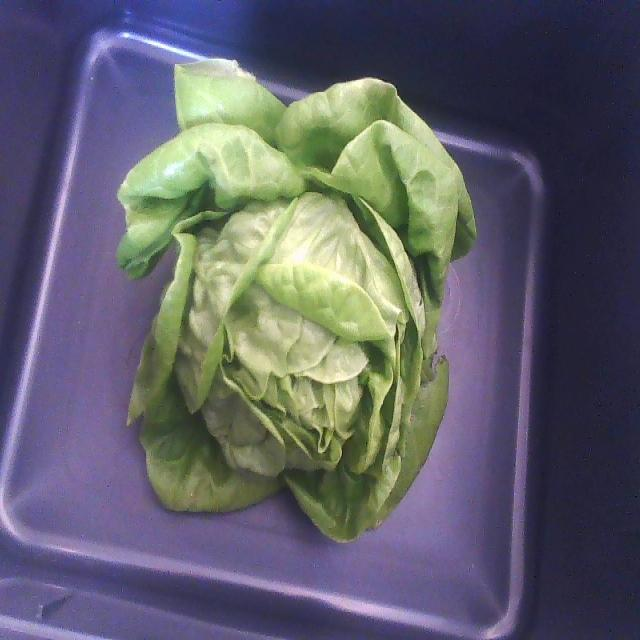Lettuce-plant: (117, 60, 475, 541)
